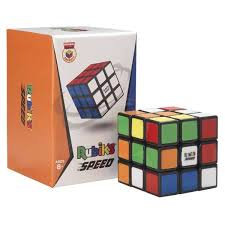cube: (115, 104, 223, 200)
